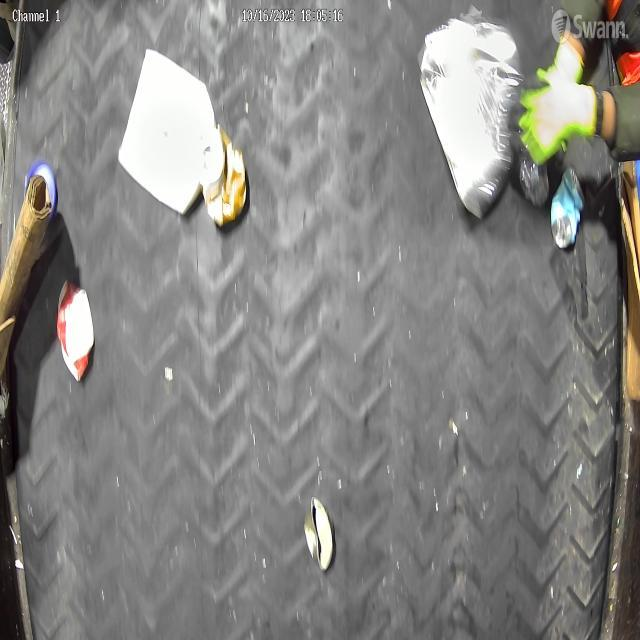can: (195, 127, 248, 229), (550, 167, 585, 249), (303, 496, 334, 572)
